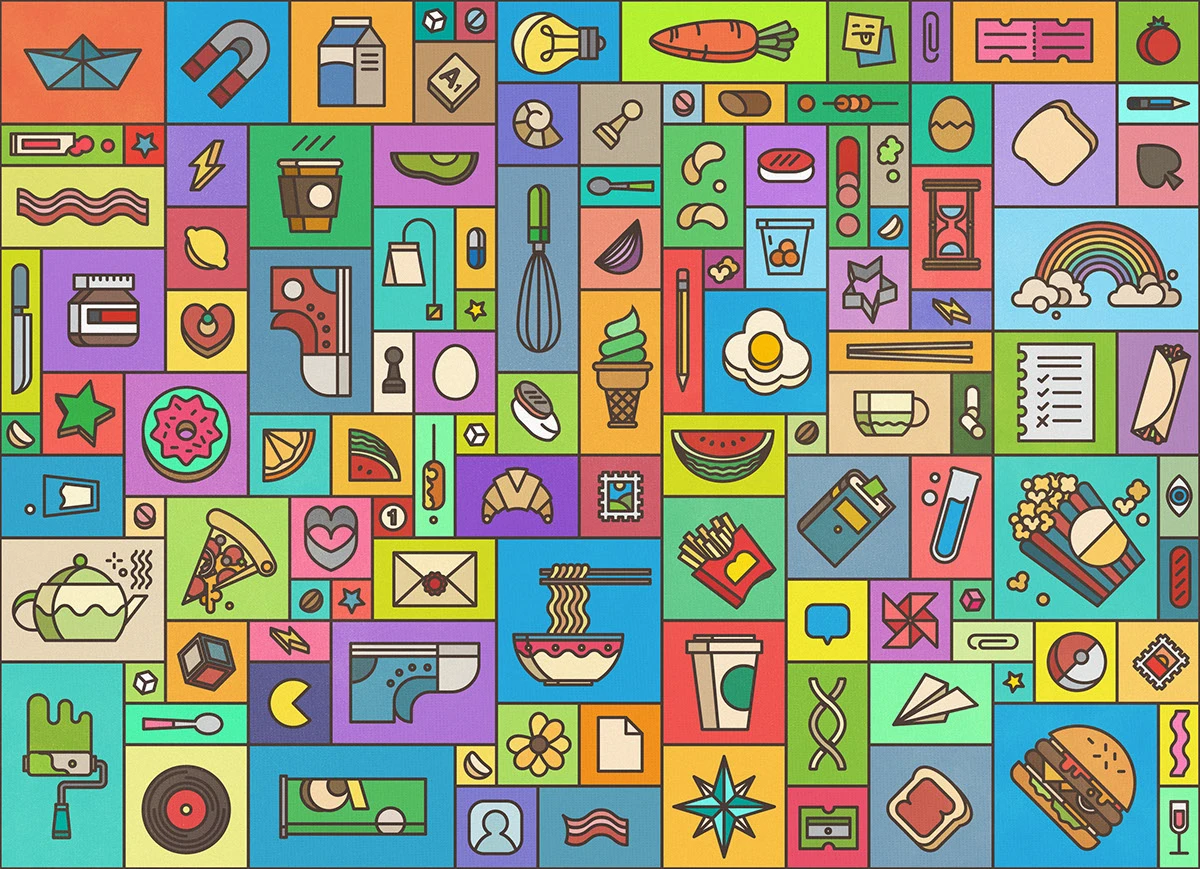not a gesture sign: (30, 71, 541, 570)
